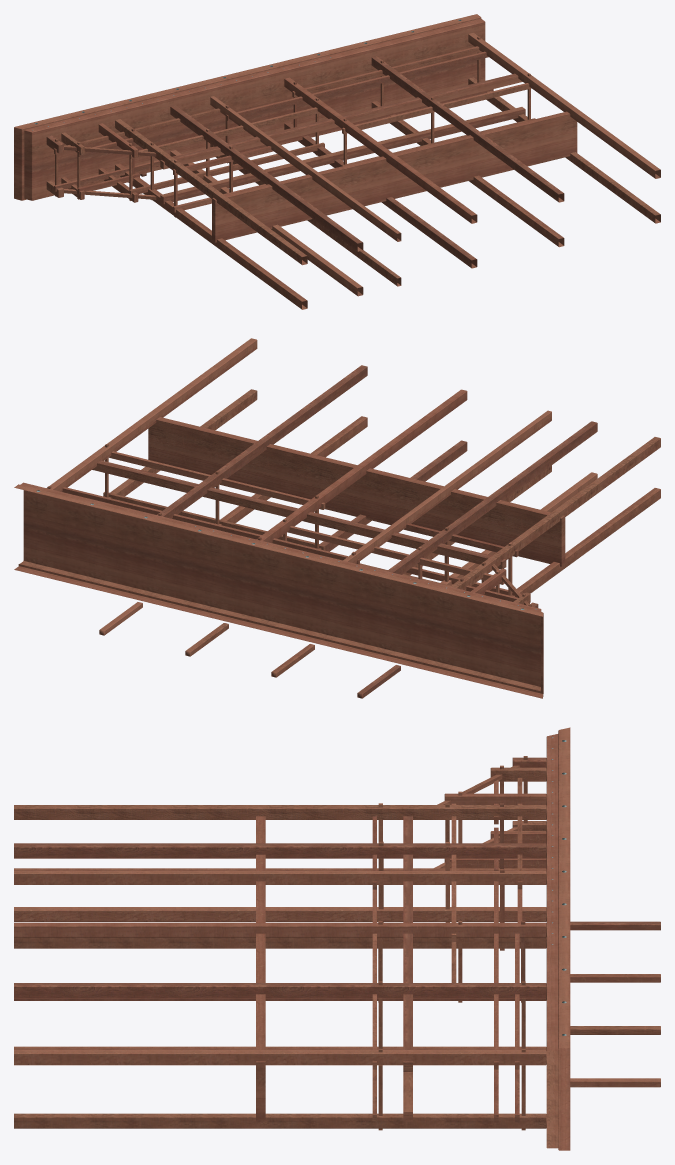
File: stc_ring_under1_set.dae
3 views of the same model, one above another, from view 1: azimuth 30°, elevation 25°; view 2: azimuth 150°, elevation 25°; view 3: azimuth 270°, elevation 25° (orthographic). The views are drawn at different scales.
Parts seen in each view (by area): view 1: ring_underShape1; view 2: ring_underShape1; view 3: ring_underShape1.
Boxes of the visible parts, bbox=[...] form: ring_underShape1: bbox=[14, 14, 660, 309]; ring_underShape1: bbox=[14, 338, 660, 698]; ring_underShape1: bbox=[14, 727, 660, 1150].
Size of the model in its own units: 246 by 209 by 40.47.
Materials: 3 (3 with a texture image).
